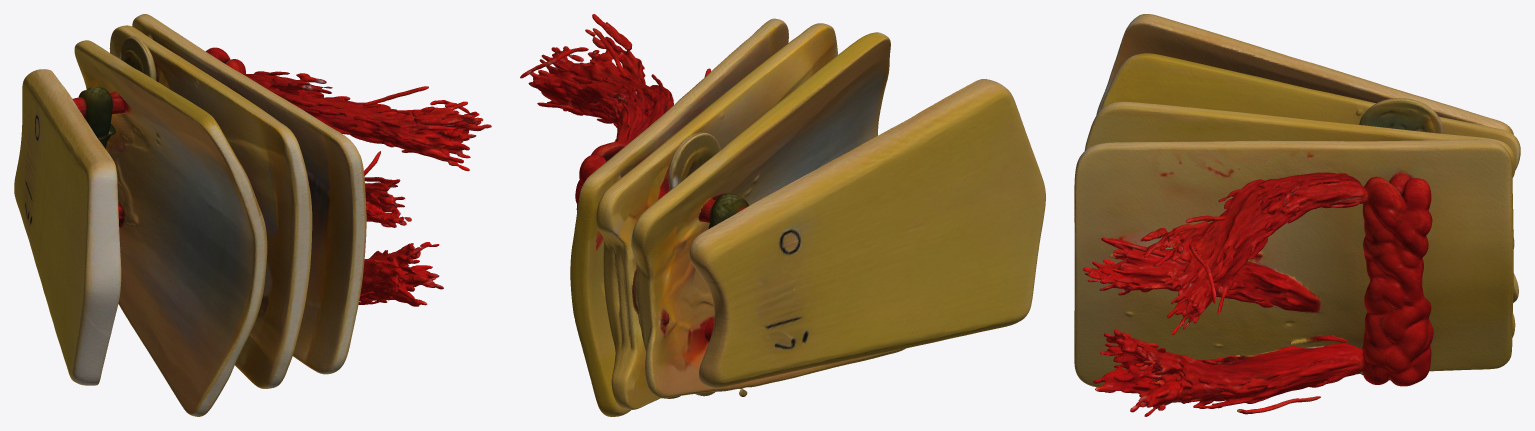
File: zhuban.glb
The picture shows the model from 3 angles, left to right: view 1: azimuth 30°, elevation 25°; view 2: azimuth 150°, elevation 25°; view 3: azimuth 270°, elevation 25°; orthographic projection. The views are drawn at different scales.
Visible parts, largest first — view 1: tripo_node_33449b90-d609-4a93-8716-ceea41c98c2b; view 2: tripo_node_33449b90-d609-4a93-8716-ceea41c98c2b; view 3: tripo_node_33449b90-d609-4a93-8716-ceea41c98c2b.
Part boxes in pixels (left/top/right/bottom): tripo_node_33449b90-d609-4a93-8716-ceea41c98c2b: left=14, top=14, right=491, bottom=416; tripo_node_33449b90-d609-4a93-8716-ceea41c98c2b: left=520, top=14, right=1045, bottom=416; tripo_node_33449b90-d609-4a93-8716-ceea41c98c2b: left=1074, top=14, right=1520, bottom=416.
Size of the model in its own units: 103 by 64.98 by 84.37.
1 material, 1 textured.
